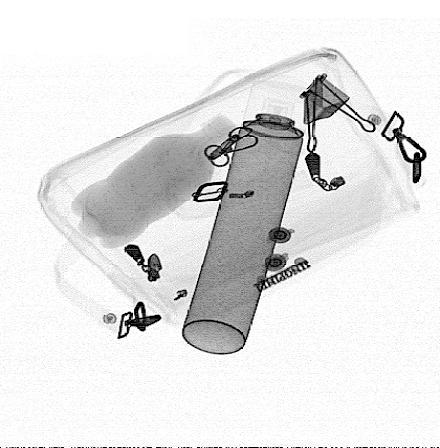Sprayer: (182, 78, 315, 357)
